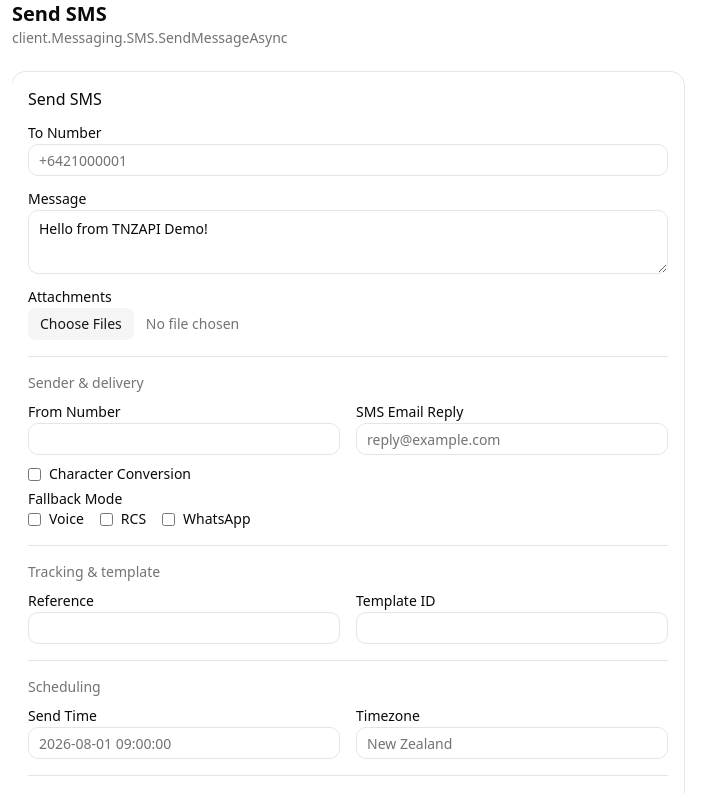
Test: SmsPage › shows the trimmed failure response without pre-filling Message ID
Step 1. Type "+64211234567" into the field labelled "To Number" → [348, 160], box [28,144,668,176]
(page scrolled)
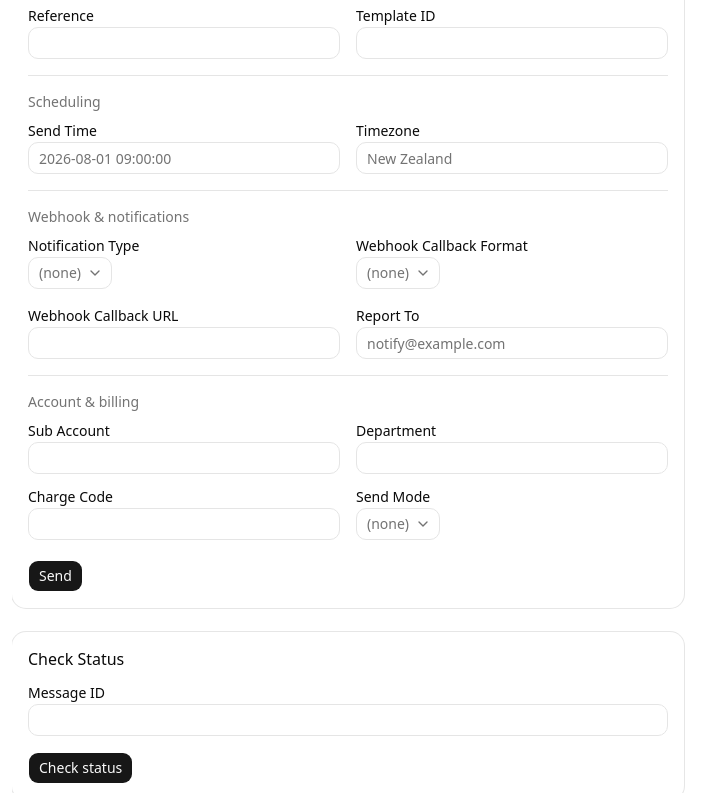
Step 2. Click the button "Send" → [55, 576], box [28,560,83,592]
(page scrolled)
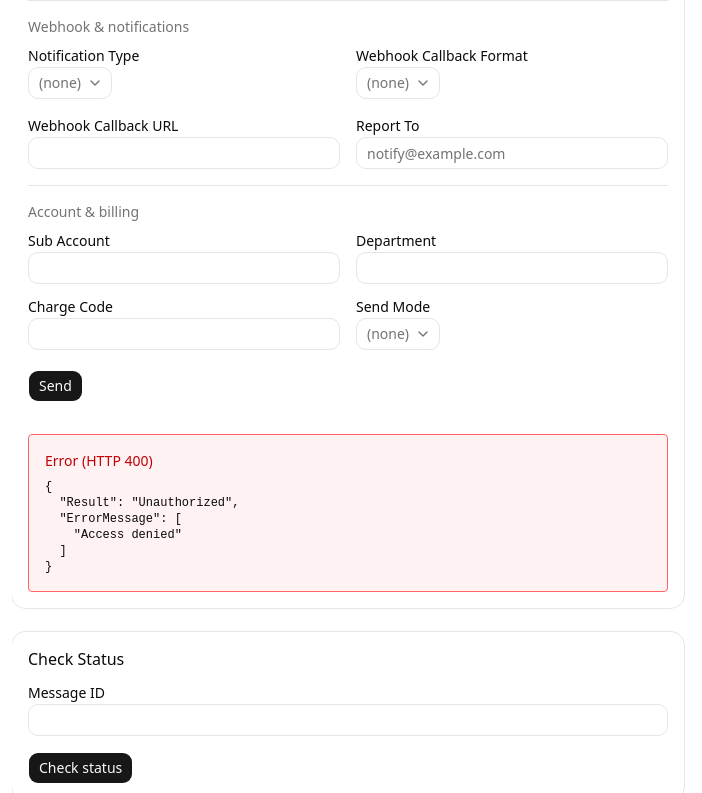
Check: the field labelled "Message ID" is empty, box [28,704,668,736]
Check: the text "Error (HTTP 400)" is shown, box [45,451,153,470]
